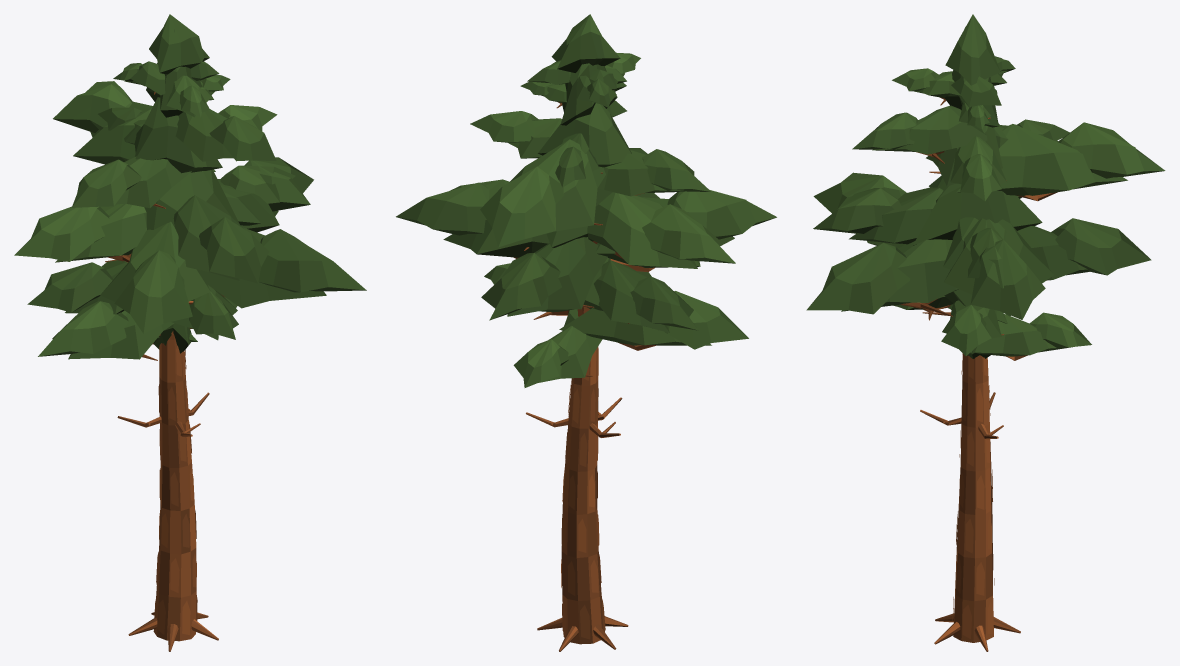
File: pine-01.glb
The picture shows the model from 3 angles, left to right: view 1: azimuth 30°, elevation 25°; view 2: azimuth 150°, elevation 25°; view 3: azimuth 270°, elevation 25°; orthographic projection.
Visible parts, largest first — view 1: pine-01; view 2: pine-01; view 3: pine-01.
Boxes of the visible parts, x1,y1,x2,y2 form: pine-01: (14, 14, 366, 651); pine-01: (396, 14, 776, 651); pine-01: (806, 14, 1165, 651).
Size of the model in its own units: 6.47 by 12 by 6.33.
